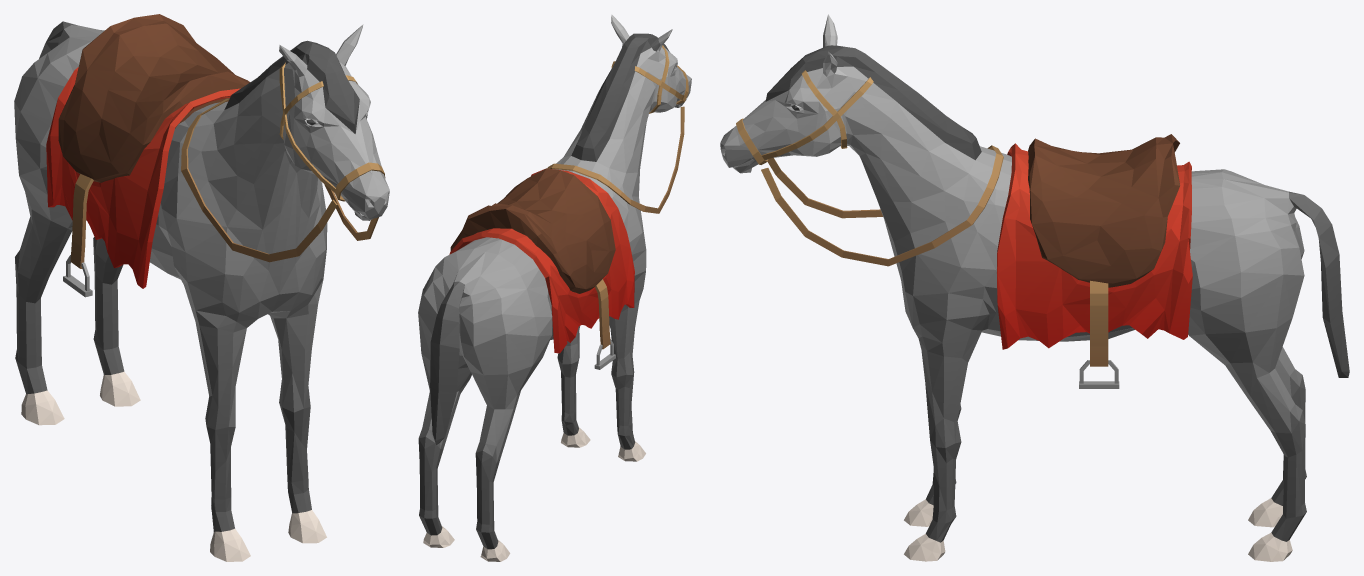
The model's file is horse silver.fbx.
3 views of the same model, side by side, from view 1: azimuth 30°, elevation 25°; view 2: azimuth 150°, elevation 25°; view 3: azimuth 270°, elevation 25° (orthographic). The views are drawn at different scales.
Parts seen in each view (by area): view 1: horse silver; view 2: horse silver; view 3: horse silver.
Part boxes in pixels (bbox=[...]): horse silver: bbox=[14, 14, 389, 561]; horse silver: bbox=[418, 14, 691, 561]; horse silver: bbox=[720, 14, 1349, 561].
Size of the model in its own units: 77.65 by 203 by 229.
